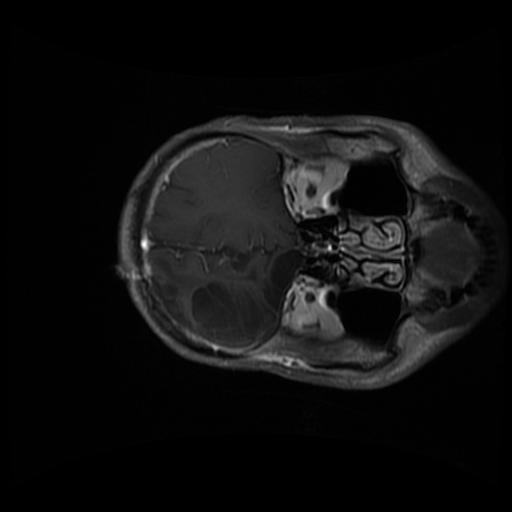glioma: (189, 248, 303, 348)
